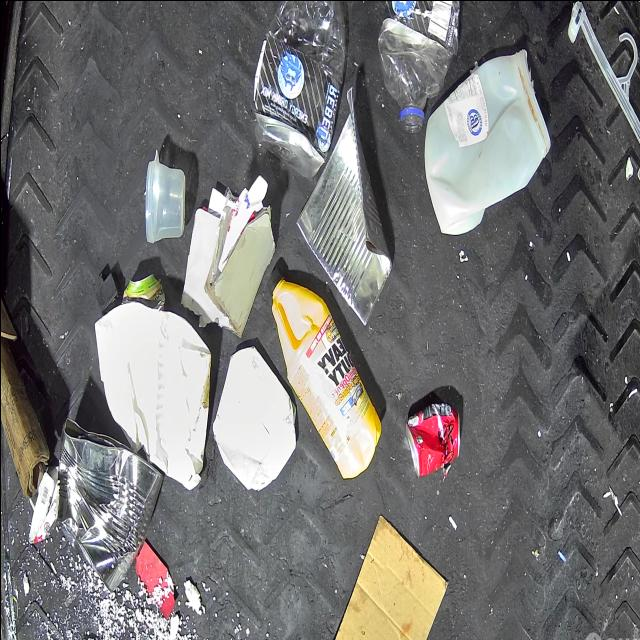can: (47, 412, 158, 592), (404, 402, 460, 478), (125, 274, 164, 306)
milk_jug: (423, 47, 550, 234)
non_white_jug: (266, 268, 378, 482)
plastic_bottle: (252, 0, 346, 180), (378, 0, 460, 132)
